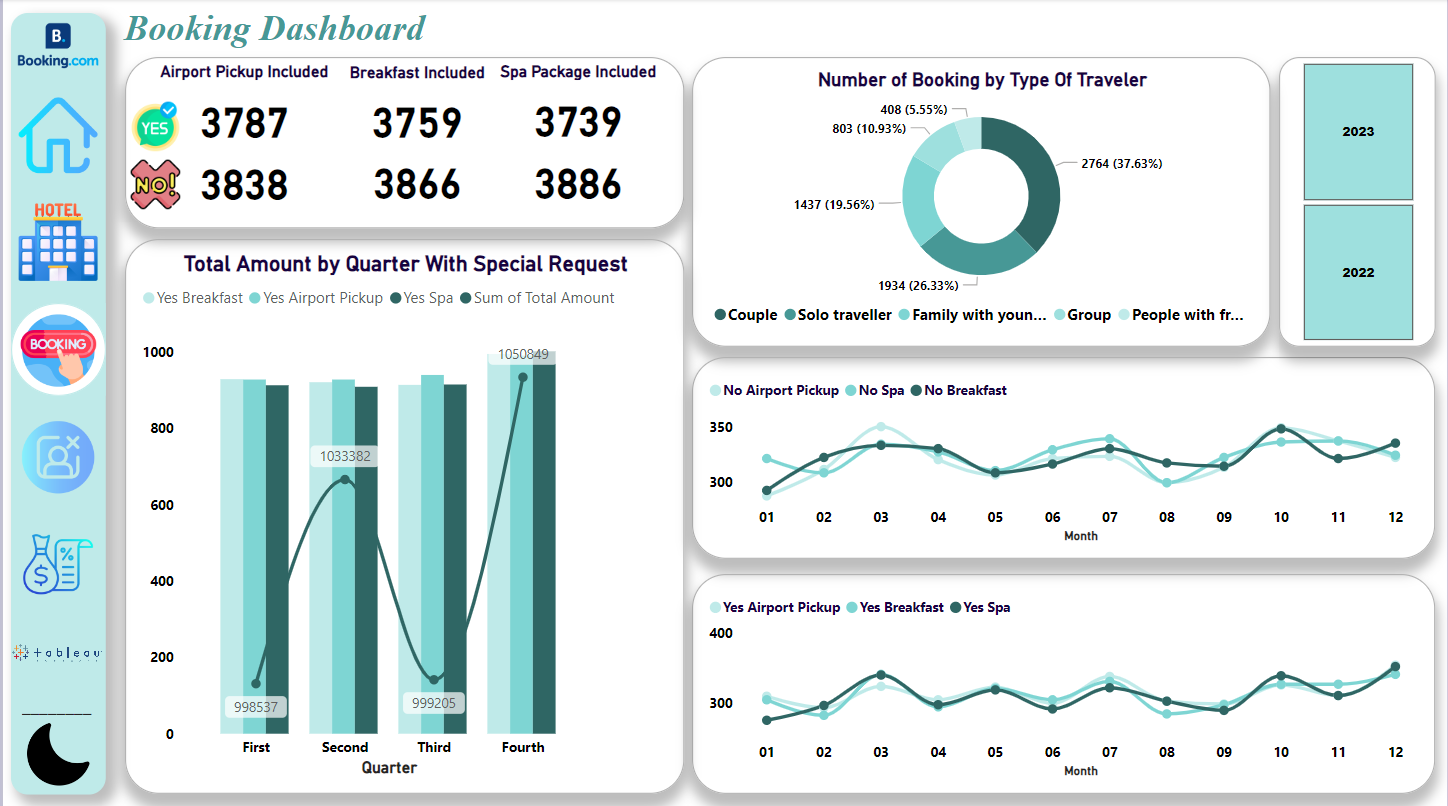

What the dashboard file says about the page in this screenshot:
{"tool":"tableau","page":{"name":"Booking Dashboard ","canvas":[1450,830],"ordinal":0},"visuals":[{"type":"image","param":"Image/boas.jpg","box":[8,8,1434,814]},{"type":"text","box":[508,26.4,370,34.2]},{"type":"image","param":"Image/choose.png","box":[91,28.3,47,39.1]},{"type":"text","box":[65,75.2,100,29.3]},{"type":"worksheet","title":"Num Of Completed and Cancelled Booking","mark":"Pie","box":[218,89,374,191]},{"type":"worksheet","title":" Booking with Breakfast Included","mark":"Automatic","rows":["Calculation_673288203220189195","Calculation_673288203220189195"],"box":[597,92,372,186]},{"type":"worksheet","title":"Bookings By Room Type ","mark":"Automatic","rows":["Booking_id_SK","Booking_id_SK"],"cols":["Room Type"],"box":[992,93,427,384]},{"type":"dashboard-object","box":[26,133.8,174,52.7]},{"type":"dashboard-object","box":[27,210.9,174,46.9]},{"type":"dashboard-object","box":[26,284.2,174,46.9]},{"type":"worksheet","title":" Booking with Spa Included","mark":"Automatic","rows":["Calculation_673288203220189195","Calculation_673288203220189195"],"box":[222,291,369,194]},{"type":"worksheet","title":" Booking with Airport Pickup Included","mark":"Automatic","rows":["Calculation_673288203220189195","Calculation_673288203220189195"],"box":[599,292,372,191]},{"type":"dashboard-object","box":[26,357.4,174,46.9]},{"type":"dashboard-object","box":[26,437.5,174,46.9]},{"type":"worksheet","title":"Num Of Bookings By Countries","mark":"Automatic","rows":["Booking_id_SK"],"cols":["Country"],"box":[219,496,1203,310]},{"type":"blank","box":[53,504,123,2]},{"type":"text","box":[80,519,73,34]},{"type":"dashboard-object","box":[71,565,76,39]},{"type":"dashboard-object","box":[122,565,91,39]},{"type":"blank","box":[51,631,123,2]},{"type":"text","box":[47,644,144,25]},{"type":"image","param":"Image/Microsoft-Power-BI-Symbol.png","box":[75,676,77,61]}]}

Visuals, with their boxes on the page's 1450x830 design canvas (x1, y1, x2, y2). These are canvas units, not pixel positions in the 1448x806 screenshot, which may show the page scaled, cropped or inside an application window:
image: pyautogui.locateOnScreen(8, 8, 1442, 822)
text: pyautogui.locateOnScreen(508, 26, 878, 61)
image: pyautogui.locateOnScreen(91, 28, 138, 67)
text: pyautogui.locateOnScreen(65, 75, 165, 104)
"Num Of Completed and Cancelled Booking" worksheet (Pie marks): pyautogui.locateOnScreen(218, 89, 592, 280)
" Booking with Breakfast Included" worksheet: pyautogui.locateOnScreen(597, 92, 969, 278)
"Bookings By Room Type " worksheet: pyautogui.locateOnScreen(992, 93, 1419, 477)
dashboard-object: pyautogui.locateOnScreen(26, 134, 200, 186)
dashboard-object: pyautogui.locateOnScreen(27, 211, 201, 258)
dashboard-object: pyautogui.locateOnScreen(26, 284, 200, 331)
" Booking with Spa Included" worksheet: pyautogui.locateOnScreen(222, 291, 591, 485)
" Booking with Airport Pickup Included" worksheet: pyautogui.locateOnScreen(599, 292, 971, 483)
dashboard-object: pyautogui.locateOnScreen(26, 357, 200, 404)
dashboard-object: pyautogui.locateOnScreen(26, 438, 200, 484)
"Num Of Bookings By Countries" worksheet: pyautogui.locateOnScreen(219, 496, 1422, 806)
blank: pyautogui.locateOnScreen(53, 504, 176, 506)
text: pyautogui.locateOnScreen(80, 519, 153, 553)
dashboard-object: pyautogui.locateOnScreen(71, 565, 147, 604)
dashboard-object: pyautogui.locateOnScreen(122, 565, 213, 604)
blank: pyautogui.locateOnScreen(51, 631, 174, 633)
text: pyautogui.locateOnScreen(47, 644, 191, 669)
image: pyautogui.locateOnScreen(75, 676, 152, 737)
